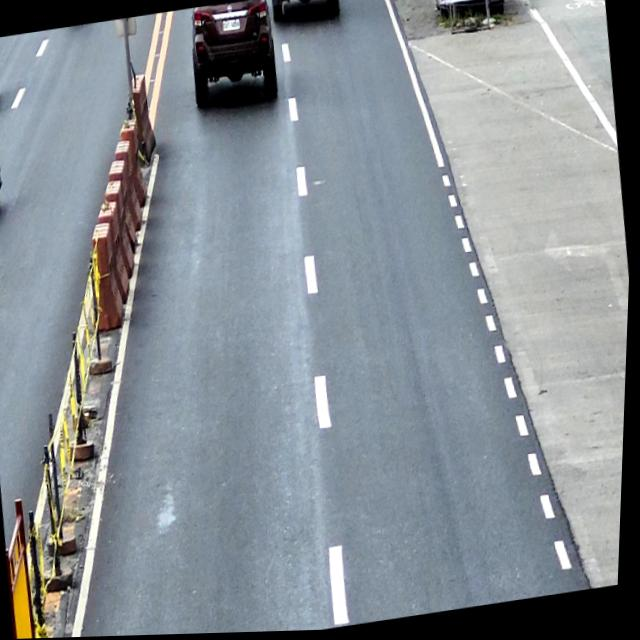Car: (184, 0, 282, 113)
License-Plate: (221, 19, 241, 33)
Motorcycle: (0, 106, 9, 217)
